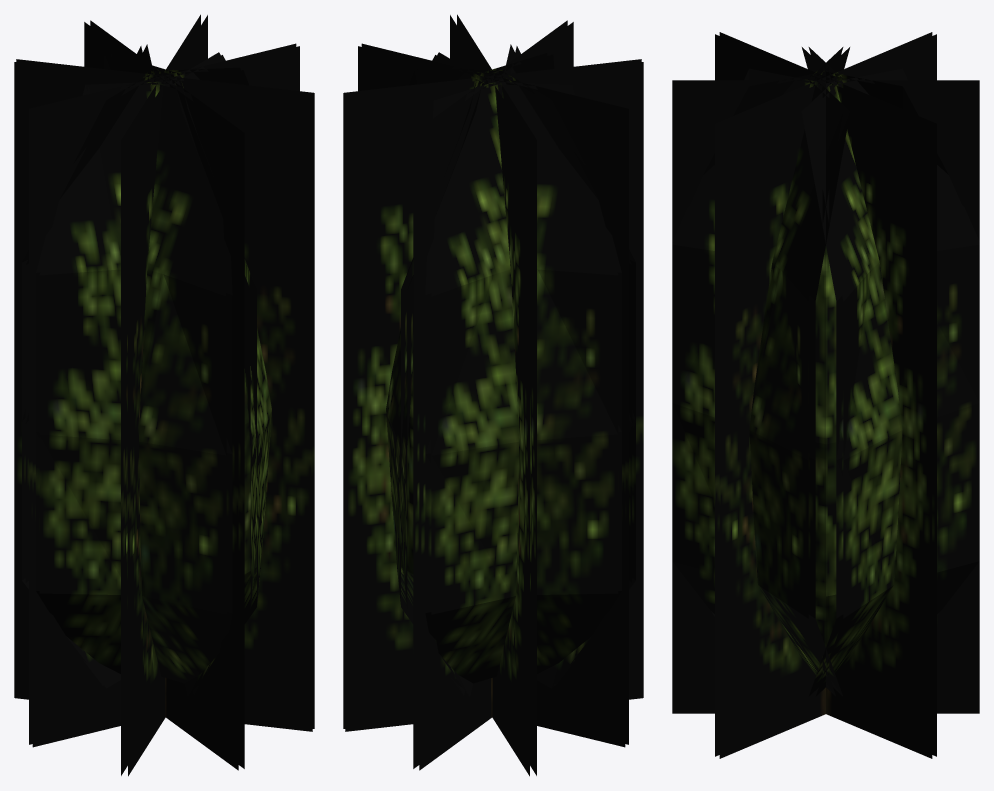
The model's file is bush05.gltf.
3 views of the same model, side by side, from view 1: azimuth 30°, elevation 25°; view 2: azimuth 150°, elevation 25°; view 3: azimuth 270°, elevation 25° (orthographic).
Parts seen in each view (by area): view 1: bush5; view 2: bush5; view 3: bush5.
Part boxes in pixels (box(x1,y1,x2,y2)): bush5: box(14, 14, 314, 776); bush5: box(343, 14, 643, 776); bush5: box(672, 32, 979, 758).
Bounding box in the file's own units: 0.44 × 1 × 0.44.
1 material, 1 textured.
